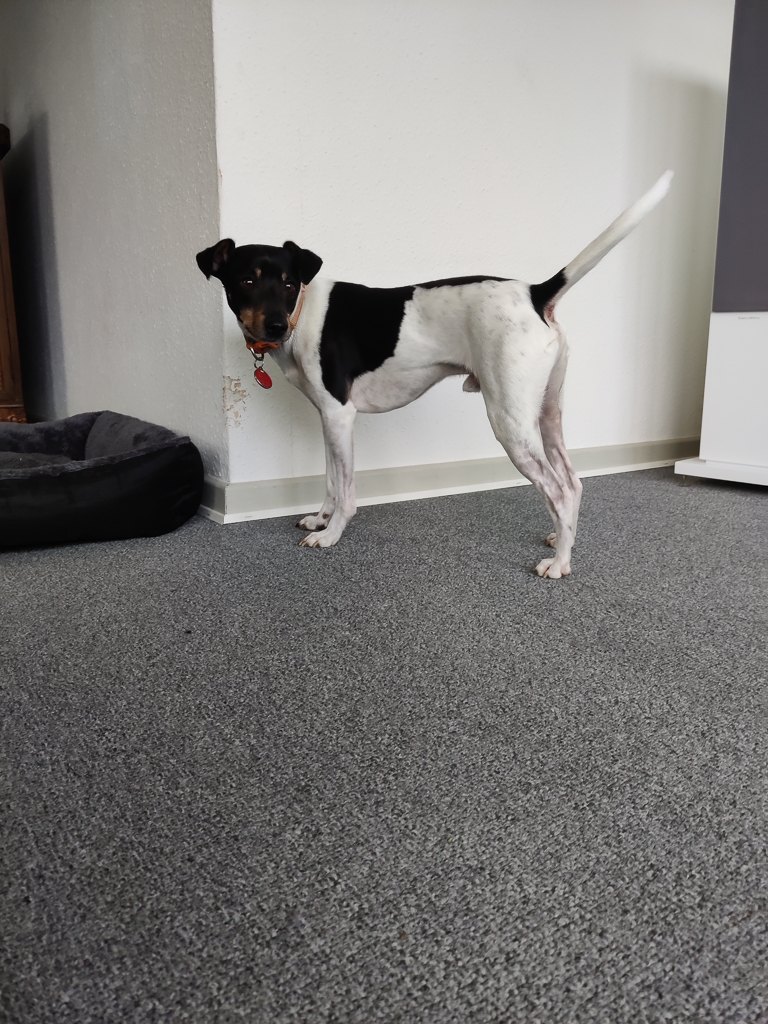Dog: (172, 138, 697, 600)
